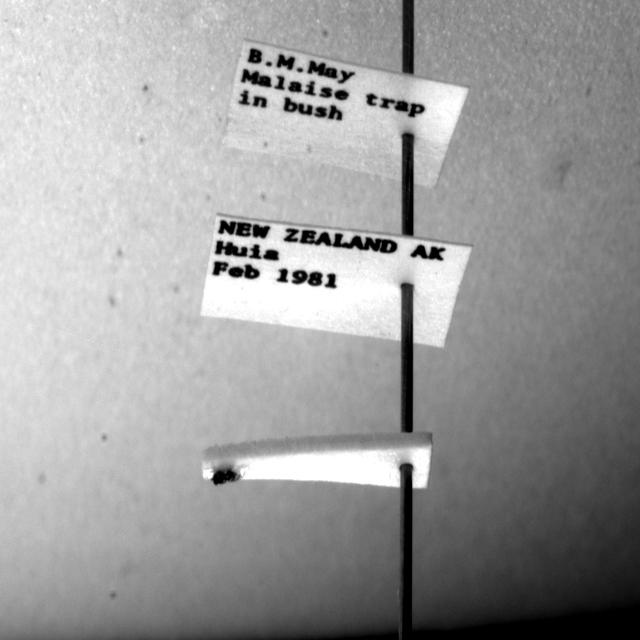typed_label: (224, 39, 468, 188), (201, 214, 471, 347)
